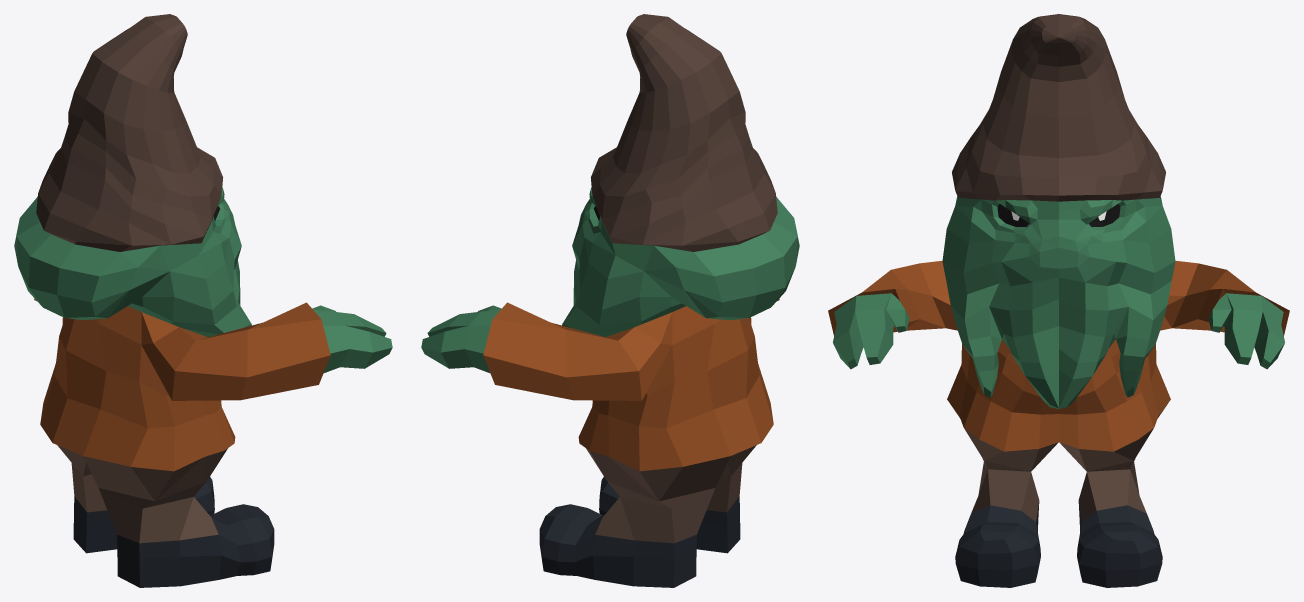
File: Gnome_Garden_Cthulhu.fbx
The picture shows the model from 3 angles, left to right: view 1: azimuth 30°, elevation 25°; view 2: azimuth 150°, elevation 25°; view 3: azimuth 270°, elevation 25°; orthographic projection.
Visible parts, largest first — view 1: Cthulhu_Gnome.001; view 2: Cthulhu_Gnome.001; view 3: Cthulhu_Gnome.001.
Part boxes in pixels (x1,y1,x2,y2): Cthulhu_Gnome.001: (14,14,392,587); Cthulhu_Gnome.001: (421,14,799,587); Cthulhu_Gnome.001: (828,14,1289,587).
Size of the model in its own units: 91.3 by 176 by 138.
